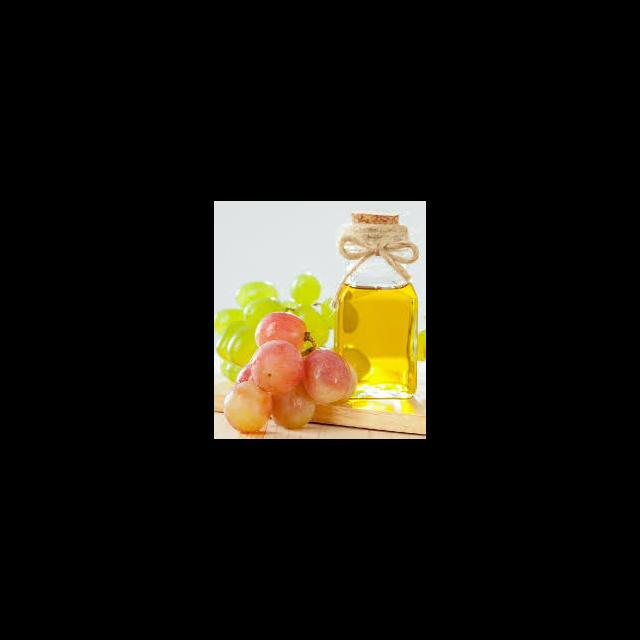grape: (214, 272, 335, 383)
